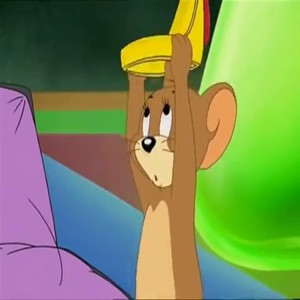Jerry: (121, 74, 237, 299)
